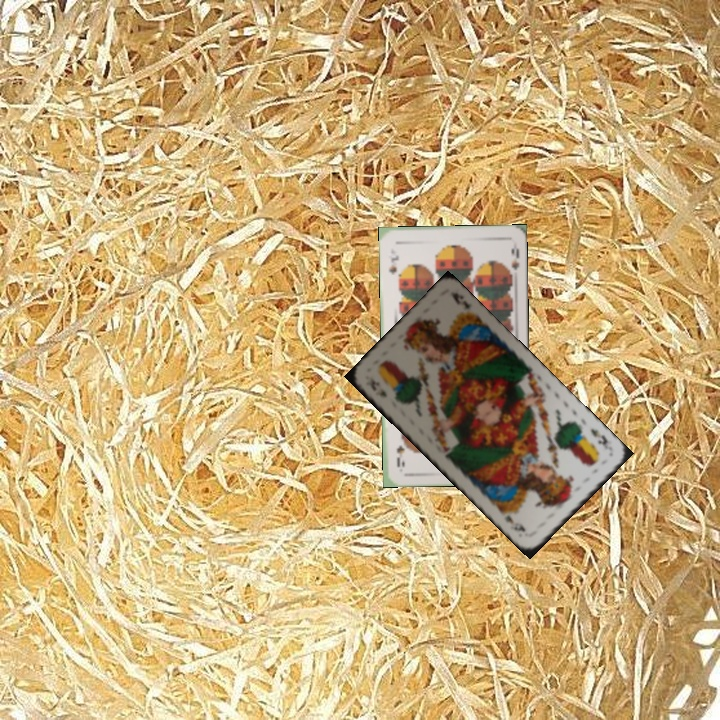EK: (586, 424, 610, 448), (366, 375, 390, 399)
S9: (385, 251, 401, 277)
